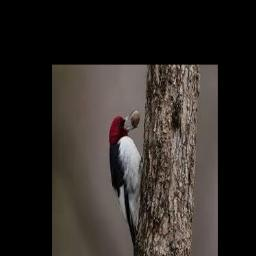Woodpecker: (109, 109, 143, 256)
